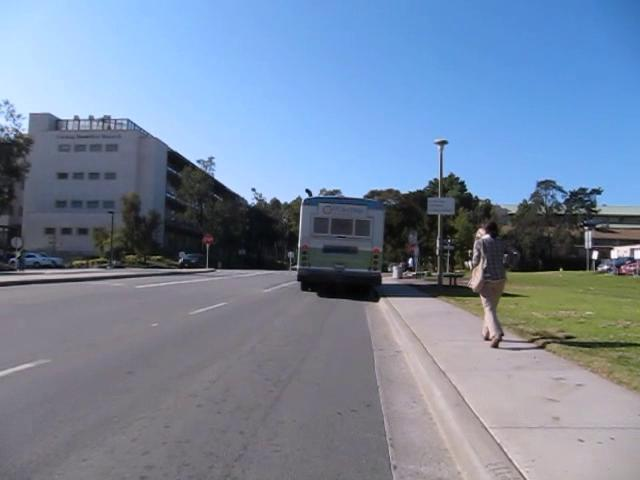stop: (201, 232, 214, 245)
